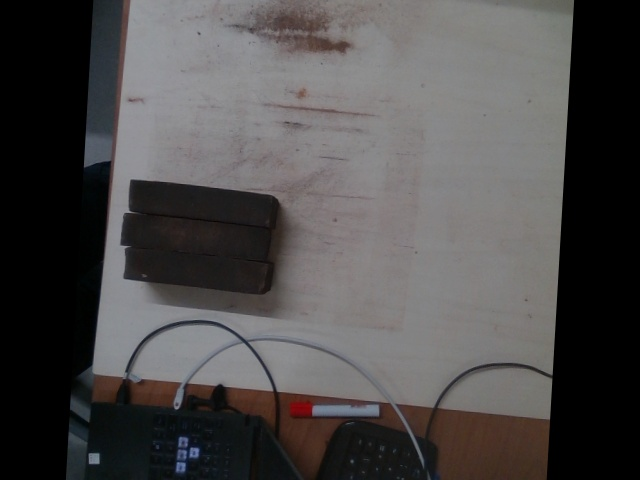brick-side: (122, 246, 264, 294), (127, 178, 269, 226), (122, 212, 264, 260)
